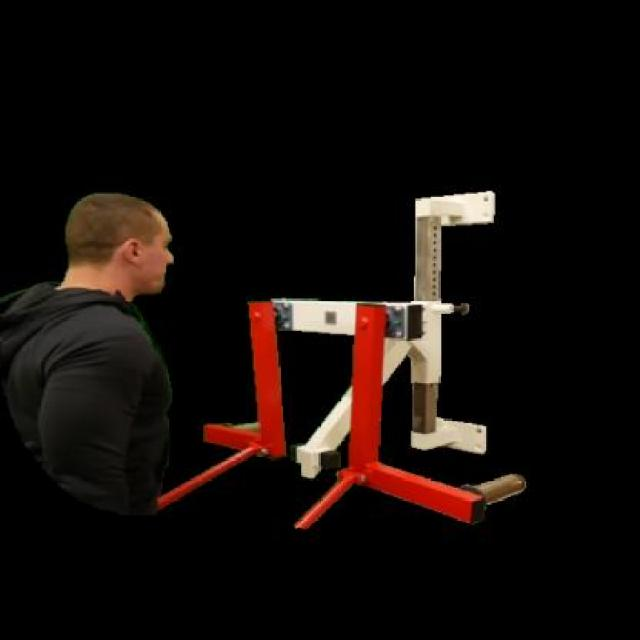lateral raises machine: (174, 188, 526, 528)
